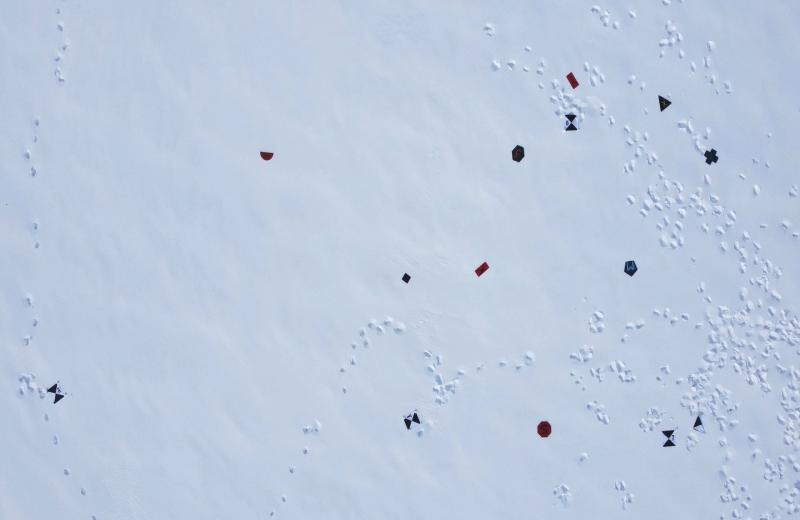Cross: (703, 147, 719, 166)
Hexagon: (510, 144, 526, 163)
Octagon: (536, 420, 553, 440)
Pentagon: (622, 259, 638, 278)
Rectangle: (566, 71, 581, 89), (474, 261, 490, 277)
Semi Circle: (260, 148, 274, 161)
Square: (400, 272, 412, 285)
Triangle: (656, 93, 672, 113)
